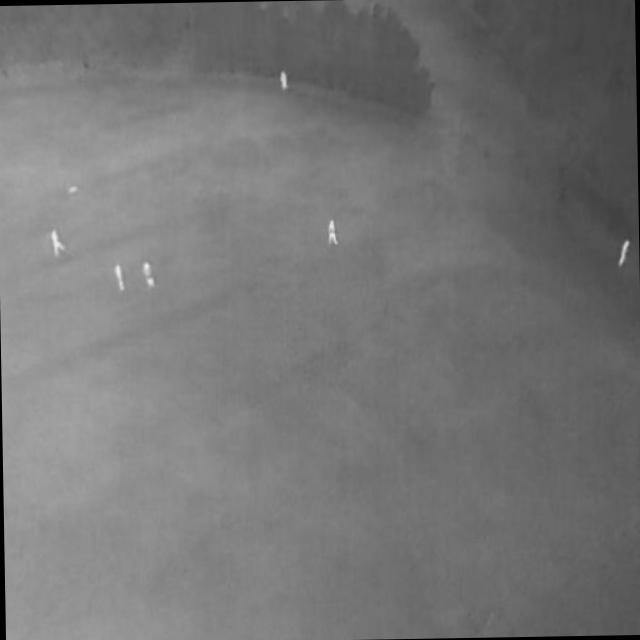person: (616, 237, 631, 270), (48, 228, 64, 258), (143, 262, 154, 291), (113, 263, 124, 292), (327, 220, 338, 248), (280, 73, 289, 91)
